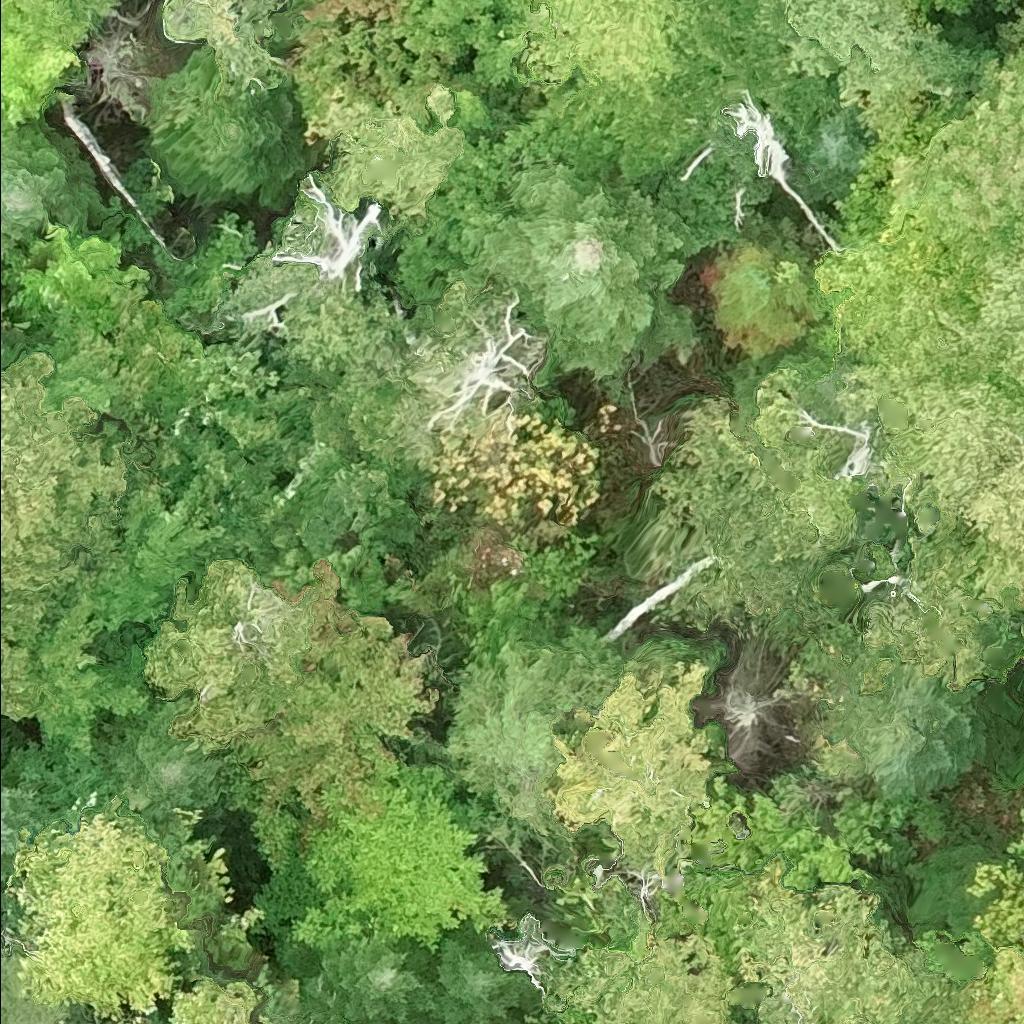crown: (476, 156, 720, 412), (253, 761, 518, 980), (235, 560, 440, 823), (831, 340, 1023, 606), (0, 348, 128, 715), (0, 797, 198, 1019), (543, 658, 739, 871), (446, 634, 619, 835), (741, 856, 941, 1023), (145, 559, 314, 753), (880, 42, 1023, 253), (780, 0, 991, 139), (287, 0, 525, 122), (499, 0, 766, 107), (146, 44, 306, 213), (55, 471, 211, 636), (427, 406, 604, 534), (830, 662, 991, 797), (9, 221, 151, 340), (551, 931, 731, 1023), (94, 693, 230, 813), (0, 113, 92, 277), (0, 0, 115, 127), (699, 238, 816, 361), (25, 591, 113, 754), (288, 929, 438, 1023), (694, 635, 789, 769), (961, 229, 1023, 396), (785, 104, 876, 216), (0, 730, 61, 889), (426, 935, 532, 1023), (491, 915, 576, 998), (166, 973, 297, 1023), (0, 951, 80, 1023), (954, 944, 1023, 1023), (1007, 802, 1023, 857)
